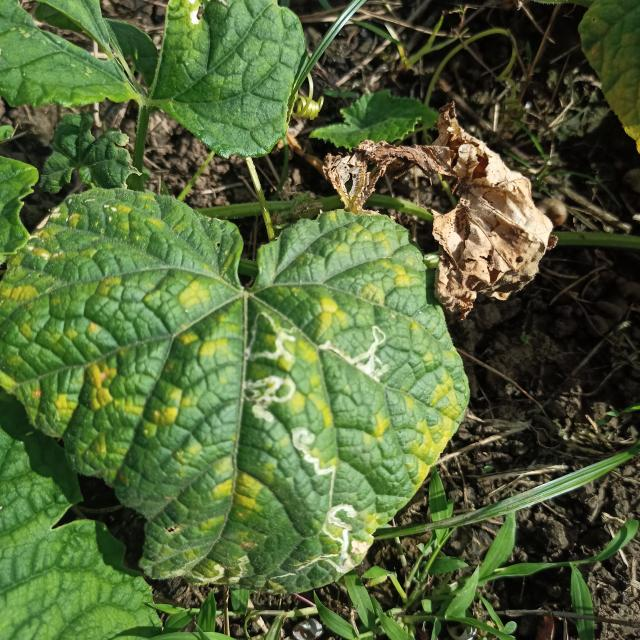disease_cucumber: (14, 200, 464, 594)
